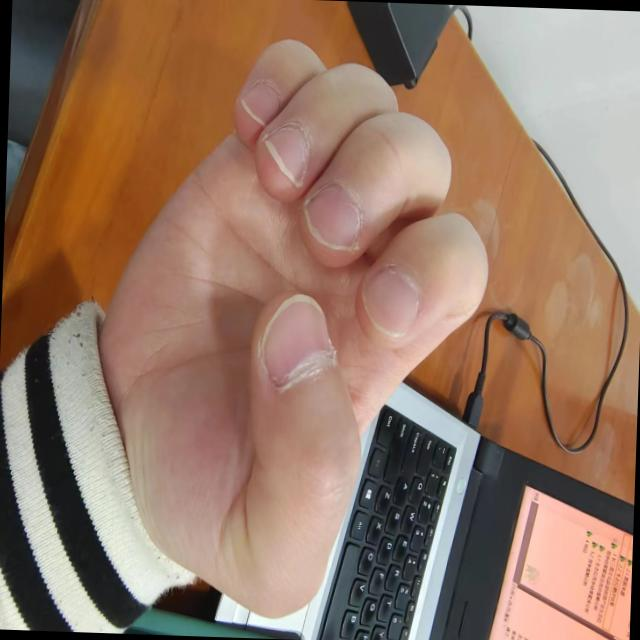Nail: (260, 293, 331, 386), (362, 265, 418, 337), (302, 182, 359, 249), (263, 126, 307, 186), (240, 81, 279, 125)
